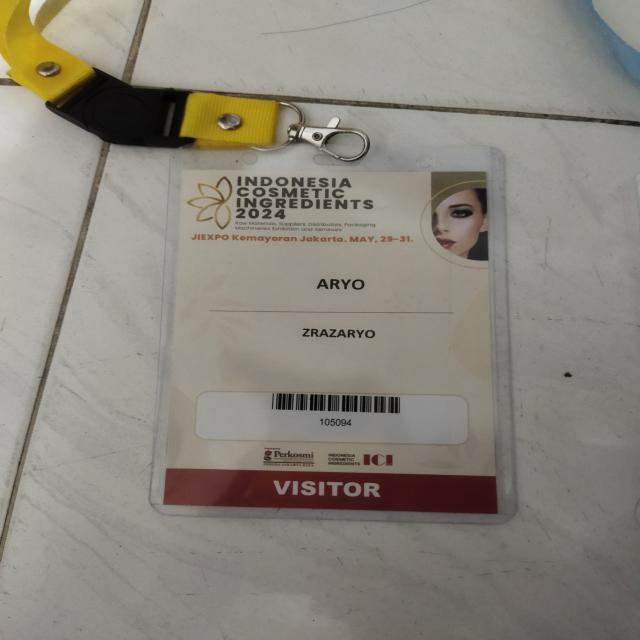ID_card: (148, 143, 515, 521)
